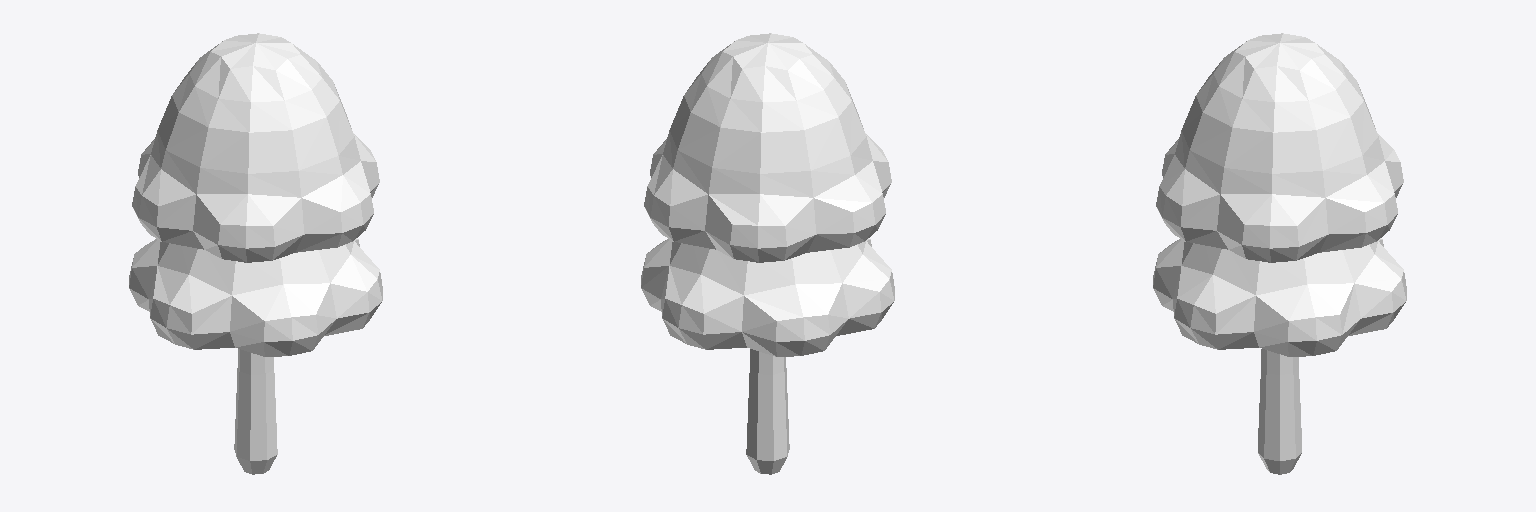
File: tree_large.obj
3 views of the same model, side by side, from view 1: azimuth 30°, elevation 25°; view 2: azimuth 150°, elevation 25°; view 3: azimuth 270°, elevation 25° (orthographic).
Visible parts, largest first — view 1: tree_large; view 2: tree_large; view 3: tree_large.
Boxes of the visible parts, x1,y1,x2,y2 form: tree_large: [129, 33, 382, 474]; tree_large: [641, 33, 894, 474]; tree_large: [1153, 33, 1406, 474].
Size of the model in its own units: 2.75 by 4.98 by 2.69.